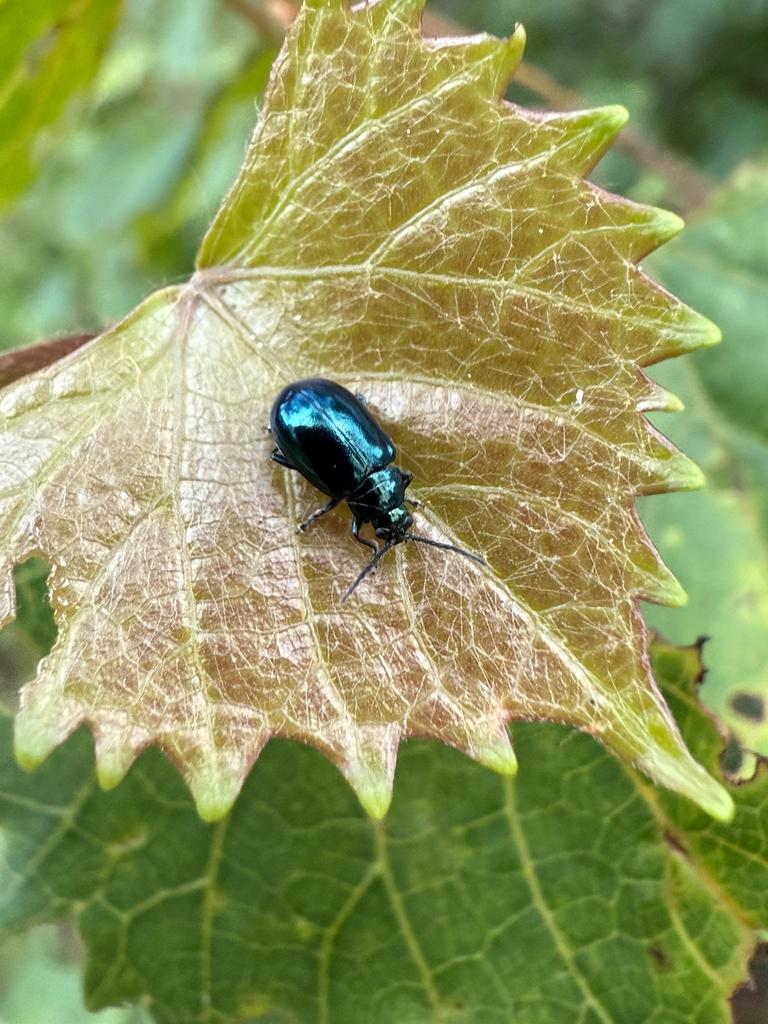flea_beetle: (203, 333, 529, 623)
